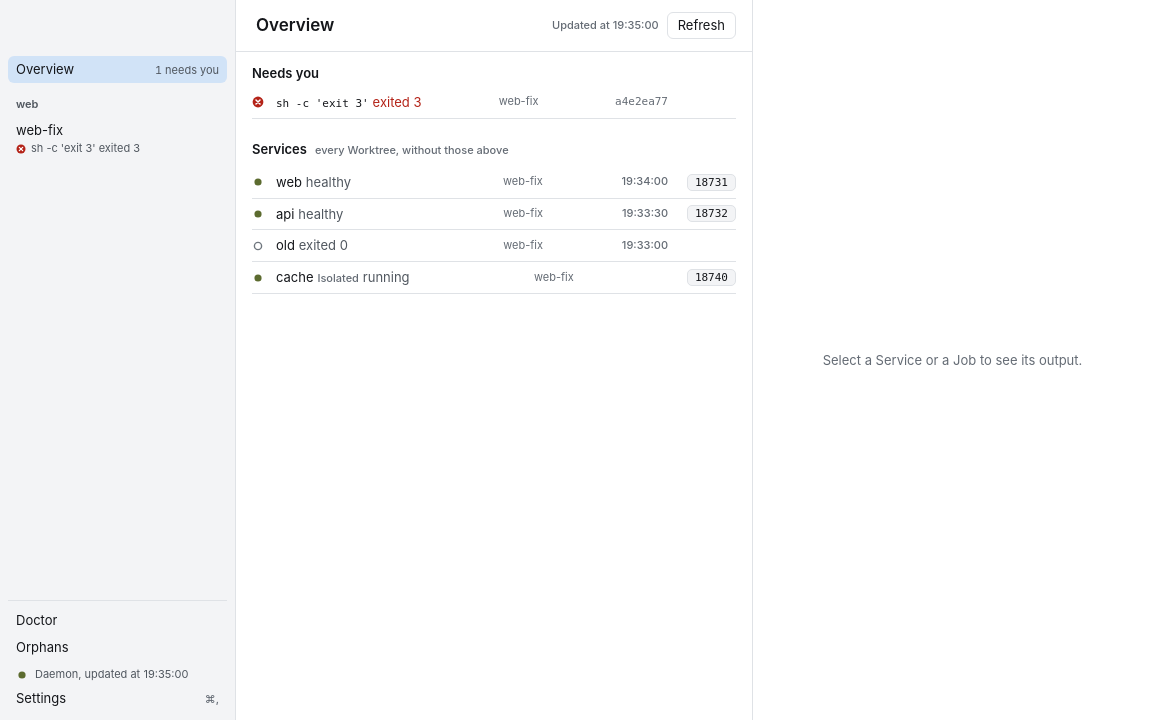
the menu bar › opens the Worktree in the editor and starts its release from the Worktree menu
Click the button "web-fix sh -c 'exit 3' exited 3": (118, 139) [8,117,227,161]
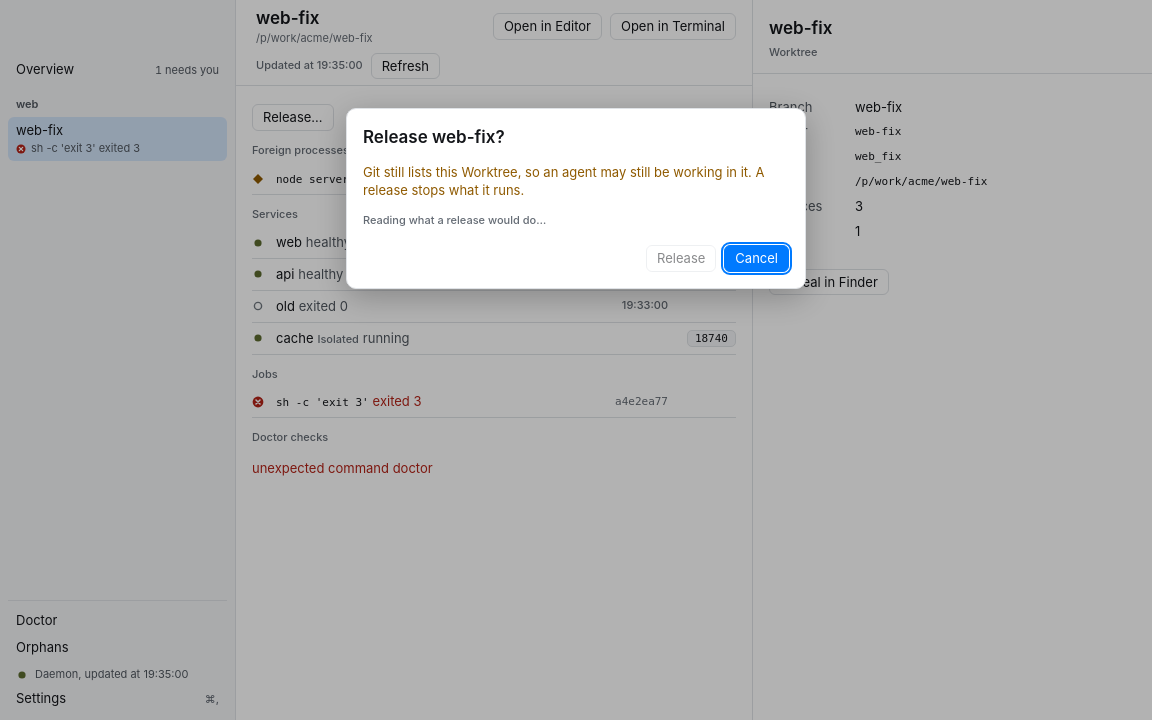
Now the heading "Services" is shown, box [252,207,298,221]
